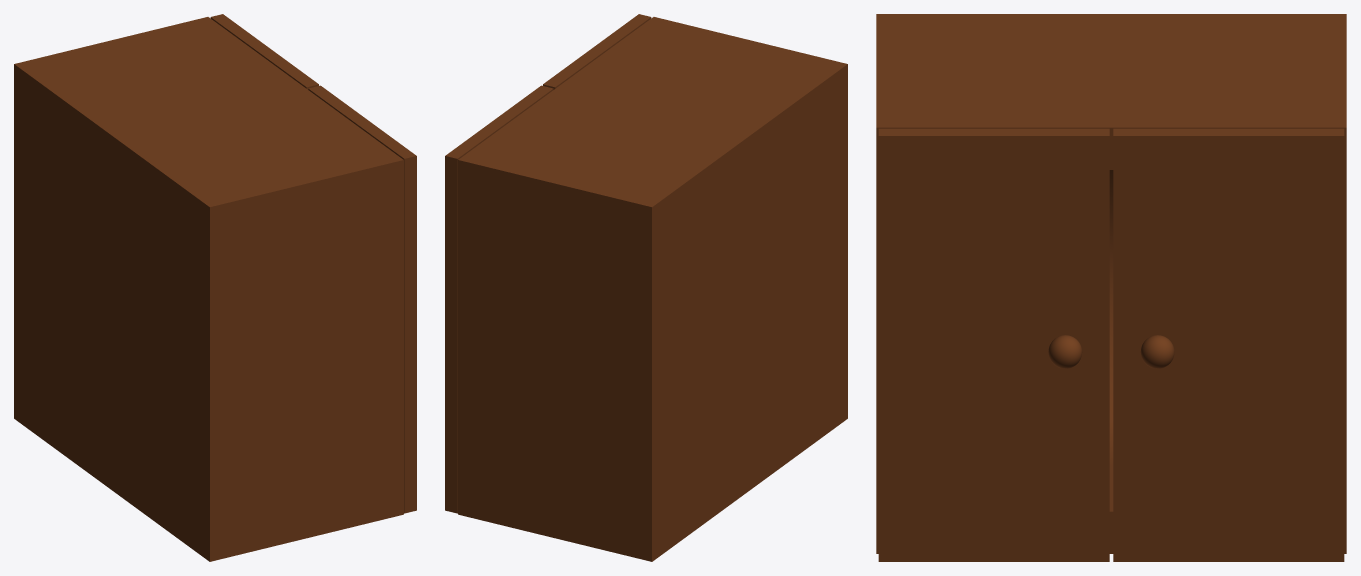
File: MobleCubParet 1.fbx
3 views of the same model, side by side, from view 1: azimuth 30°, elevation 25°; view 2: azimuth 150°, elevation 25°; view 3: azimuth 270°, elevation 25° (orthographic). The views are drawn at different scales.
Parts seen in each view (by area): view 1: Caixa, Portes; view 2: Caixa, Portes; view 3: Portes, Caixa, Poms.
Part boxes in pixels (left/top/right/bottom): Caixa: left=14, top=17, right=403, bottom=561; Portes: left=210, top=14, right=416, bottom=513; Caixa: left=458, top=17, right=847, bottom=561; Portes: left=445, top=14, right=651, bottom=513; Portes: left=878, top=128, right=1344, bottom=561; Caixa: left=876, top=14, right=1346, bottom=553; Poms: left=1048, top=335, right=1174, bottom=368.
Bounding box in the file's own units: 133 × 200 × 200.
